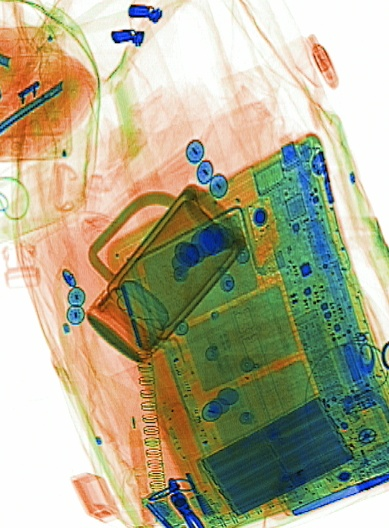powerbank: (193, 380, 377, 519)
